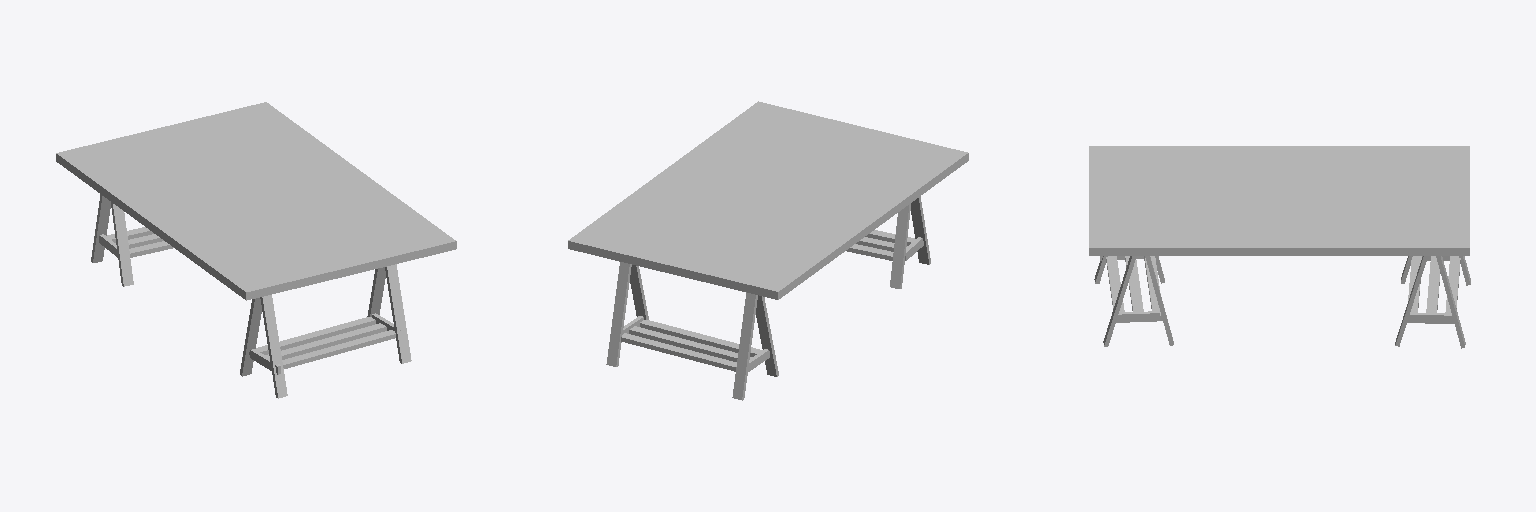
Rendered from table.obj.
3 views of the same model, side by side, from view 1: azimuth 30°, elevation 25°; view 2: azimuth 150°, elevation 25°; view 3: azimuth 270°, elevation 25° (orthographic).
Parts seen in each view (by area): view 1: Cube_Cube.001, Cube.009_Cube.014, Cube.007_Cube.012, Cube.010_Cube.015, Cube.012_Cube.017; view 2: Cube_Cube.001, Cube.010_Cube.015, Cube.012_Cube.017, Cube.009_Cube.014, Cube.007_Cube.012; view 3: Cube_Cube.001, Cube.012_Cube.017, Cube.007_Cube.012, Cube.010_Cube.015, Cube.009_Cube.014.
Part boxes in pixels (x1,y1,x2,y2): Cube_Cube.001: (56,102,456,300); Cube.009_Cube.014: (240,264,411,398); Cube.007_Cube.012: (249,317,395,368); Cube.010_Cube.015: (91,194,133,286); Cube.012_Cube.017: (107,227,173,257); Cube_Cube.001: (568,101,968,299); Cube.010_Cube.015: (606,262,778,400); Cube.012_Cube.017: (621,320,762,371); Cube.009_Cube.014: (890,196,930,288); Cube.007_Cube.012: (846,230,915,260); Cube_Cube.001: (1089,146,1469,255); Cube.012_Cube.017: (1408,256,1460,313); Cube.007_Cube.012: (1106,256,1162,320); Cube.010_Cube.015: (1395,256,1470,348); Cube.009_Cube.014: (1094,256,1173,346).
Bounding box in the file's own units: 2.32 × 1.25 × 3.66.